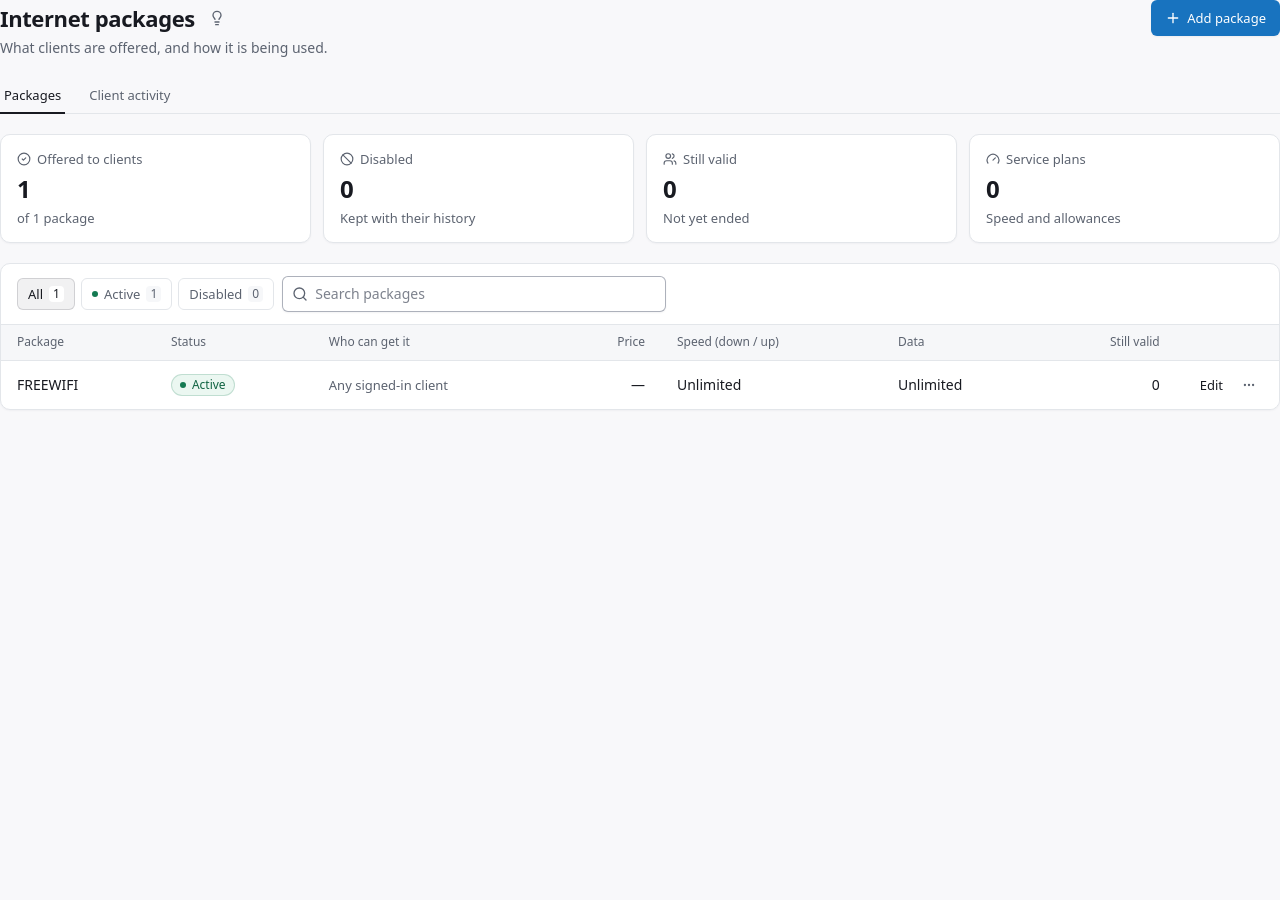
InternetPackagesPage — packages › cannot confirm the disable until both the reason and the password are given
Expected: the text "FREEWIFI" is shown, left=17, top=375, right=78, bottom=394
Press Enter in the button named "Actions for FREEWIFI", box left=1235, top=371, right=1263, bottom=399
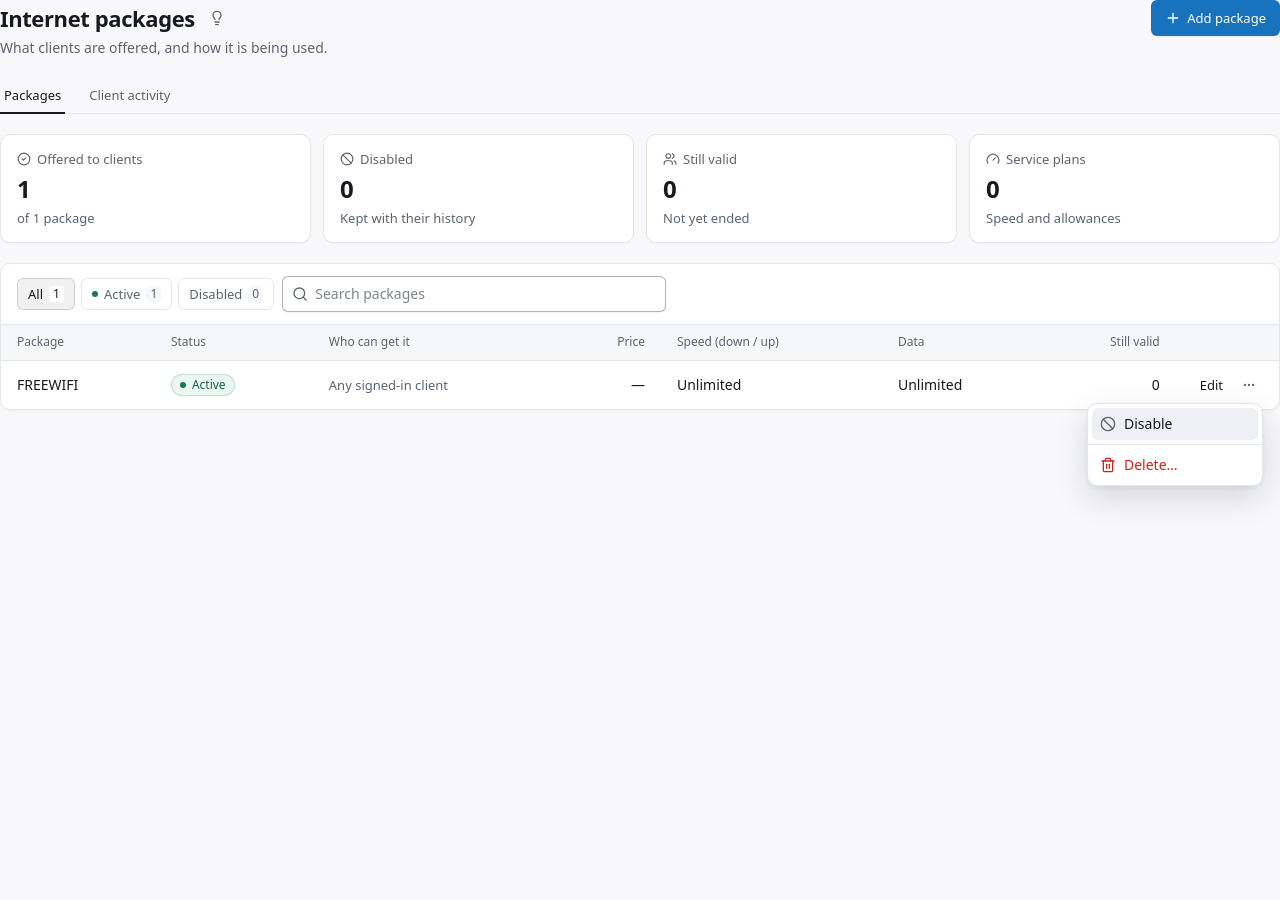
Click the menu item "Disable" at (1175, 424), box left=1092, top=408, right=1258, bottom=440
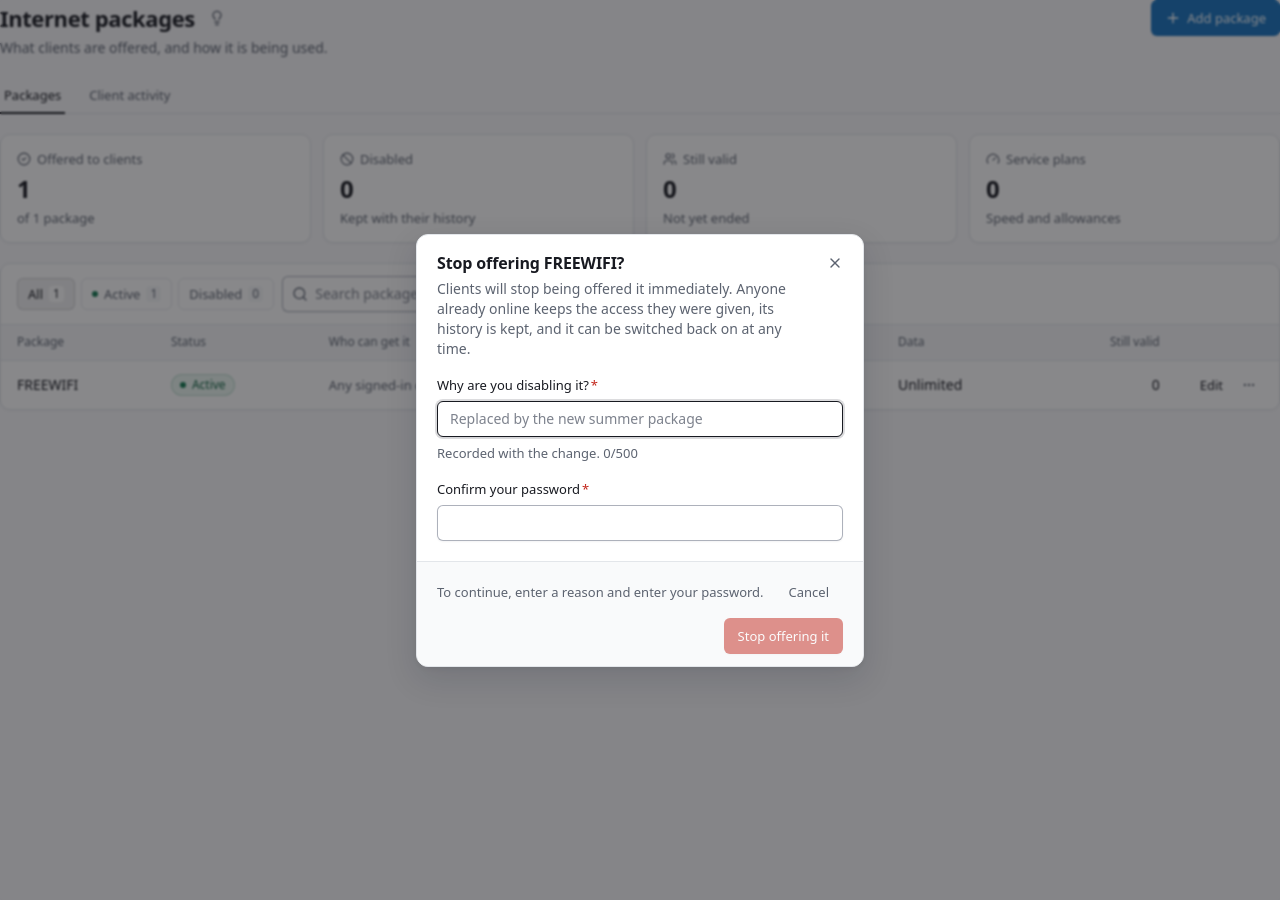
Result: the button "Stop offering it" is disabled at left=724, top=618, right=843, bottom=654
Type "superseded" into the field labelled "Why are you disabling it?*" at (640, 418), box left=437, top=400, right=843, bottom=436
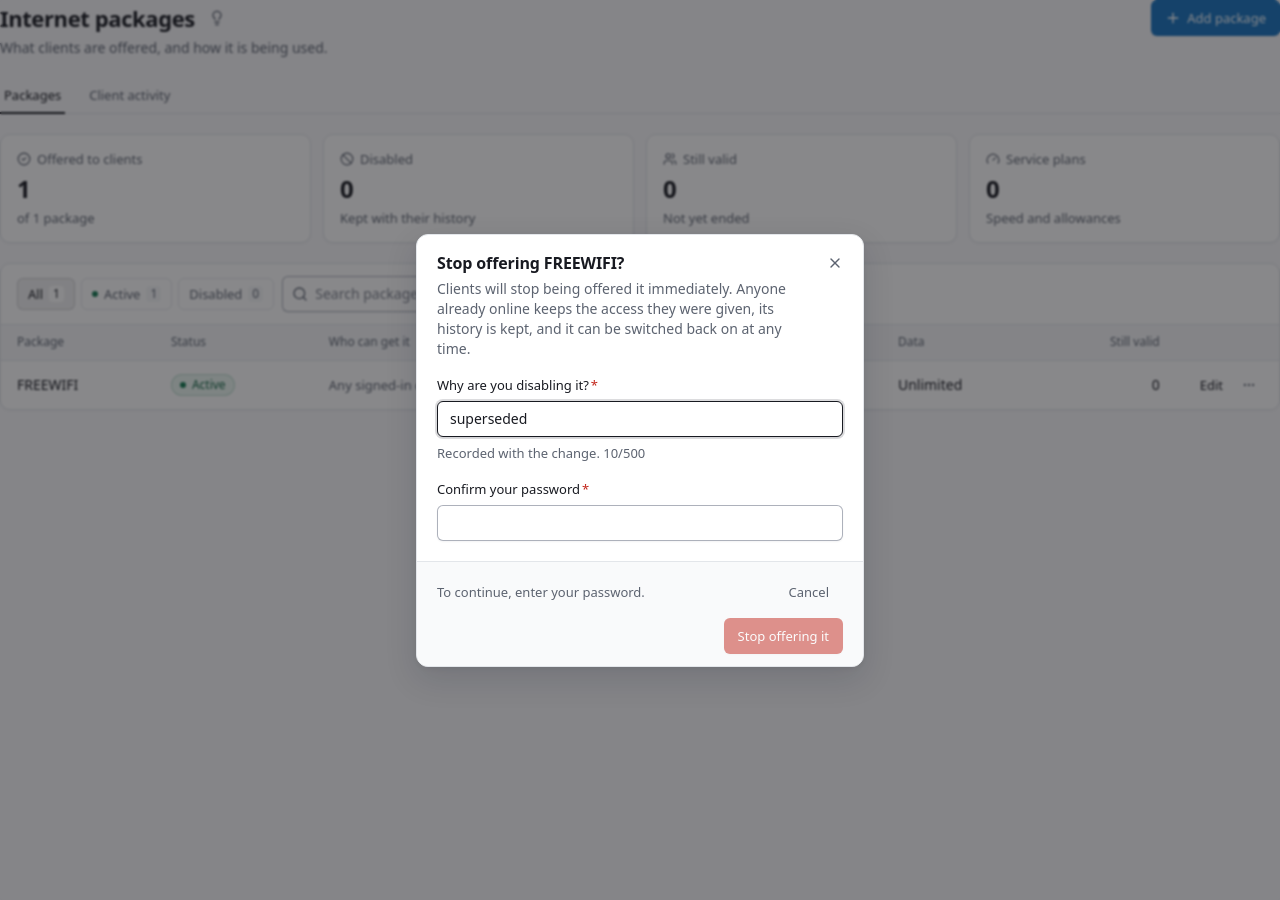
Result: the button "Stop offering it" is disabled at left=724, top=618, right=843, bottom=654
Type "pw" into the password field labelled "Confirm your password*" at (640, 522), box left=437, top=504, right=843, bottom=540
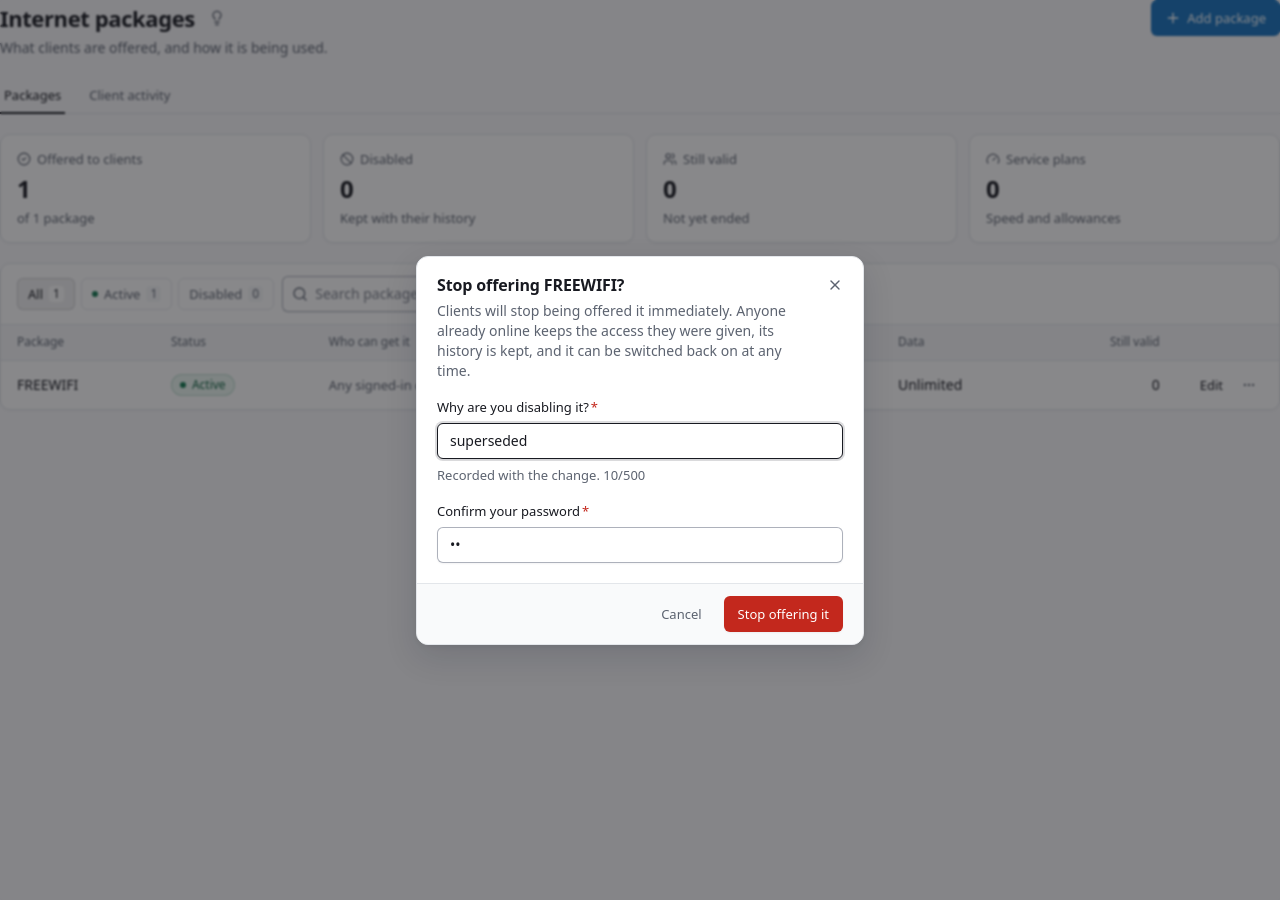
Result: the button "Stop offering it" is enabled at left=724, top=596, right=843, bottom=632
